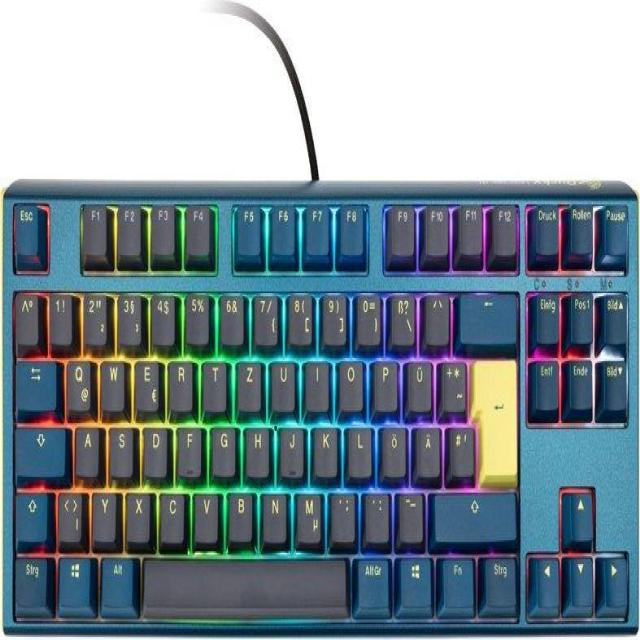0: (355, 288, 381, 344)
1: (47, 288, 72, 344)
2: (81, 289, 108, 346)
3: (115, 289, 142, 346)
4: (149, 288, 175, 344)
5: (183, 288, 209, 344)
6: (218, 288, 244, 344)
7: (252, 289, 278, 346)
8: (286, 288, 313, 344)
9: (321, 288, 347, 344)
a: (73, 420, 98, 474)
accent: (423, 288, 448, 344)
ae: (414, 420, 439, 475)
alt-left: (99, 550, 134, 610)
altgr-right: (355, 552, 389, 609)
b: (225, 485, 252, 540)
c: (157, 486, 185, 542)
caret: (13, 287, 37, 344)
comma: (330, 486, 356, 542)
d: (141, 420, 167, 475)
del: (457, 287, 516, 342)
e: (133, 353, 159, 412)
enter: (469, 353, 517, 480)
f: (175, 422, 201, 476)
g: (209, 421, 235, 474)
h: (243, 422, 270, 476)
hash: (448, 420, 473, 475)
i: (303, 355, 329, 409)
j: (278, 420, 304, 477)
k: (312, 420, 338, 475)
keyboard: (2, 178, 638, 639)
l: (346, 420, 371, 475)
less: (56, 485, 81, 542)
m: (294, 487, 321, 544)
minus: (396, 487, 422, 541)
n: (260, 486, 287, 542)
o: (336, 355, 363, 409)
oe: (379, 422, 405, 476)
p: (372, 353, 397, 409)
plus: (440, 354, 465, 411)
point: (364, 487, 390, 541)
q: (65, 353, 91, 412)
r: (166, 355, 193, 410)
s: (107, 420, 133, 475)
shift-left: (13, 487, 46, 541)
shift-lock: (13, 420, 65, 475)
shift-right: (431, 485, 515, 540)
space: (140, 551, 347, 613)
ss: (388, 288, 415, 344)
strg-left: (12, 550, 47, 612)
strg-right: (483, 550, 516, 608)
t: (200, 355, 226, 409)
tab: (14, 353, 55, 409)
u: (269, 355, 296, 410)
ue: (405, 354, 431, 411)
v: (192, 487, 218, 541)
w: (99, 353, 125, 409)
x: (124, 487, 150, 541)
y: (91, 485, 116, 540)
z: (235, 355, 261, 410)
